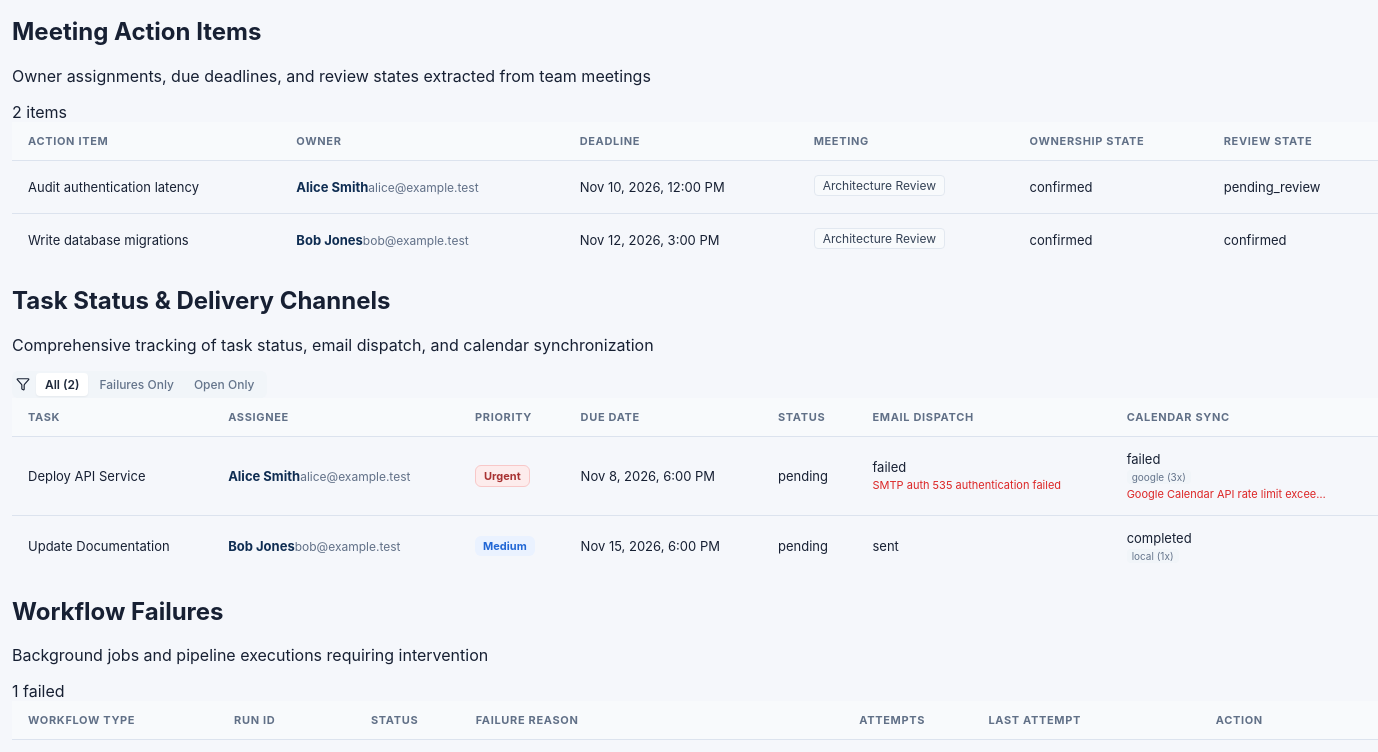
Test case: ManagerMonitoringPage › filters task status table when "Failures Only" filter is clicked
The width and height of the screenshot is (1378, 752).
(page scrolled)
Expected: the text "Deploy API Service" is shown, top-left (12, 436), bottom-right (212, 515)
Expected: the text "Update Documentation" is shown, top-left (12, 515), bottom-right (212, 577)
Click the button with test id "filter-failures-btn": (137, 384) top-left (90, 373), bottom-right (183, 396)
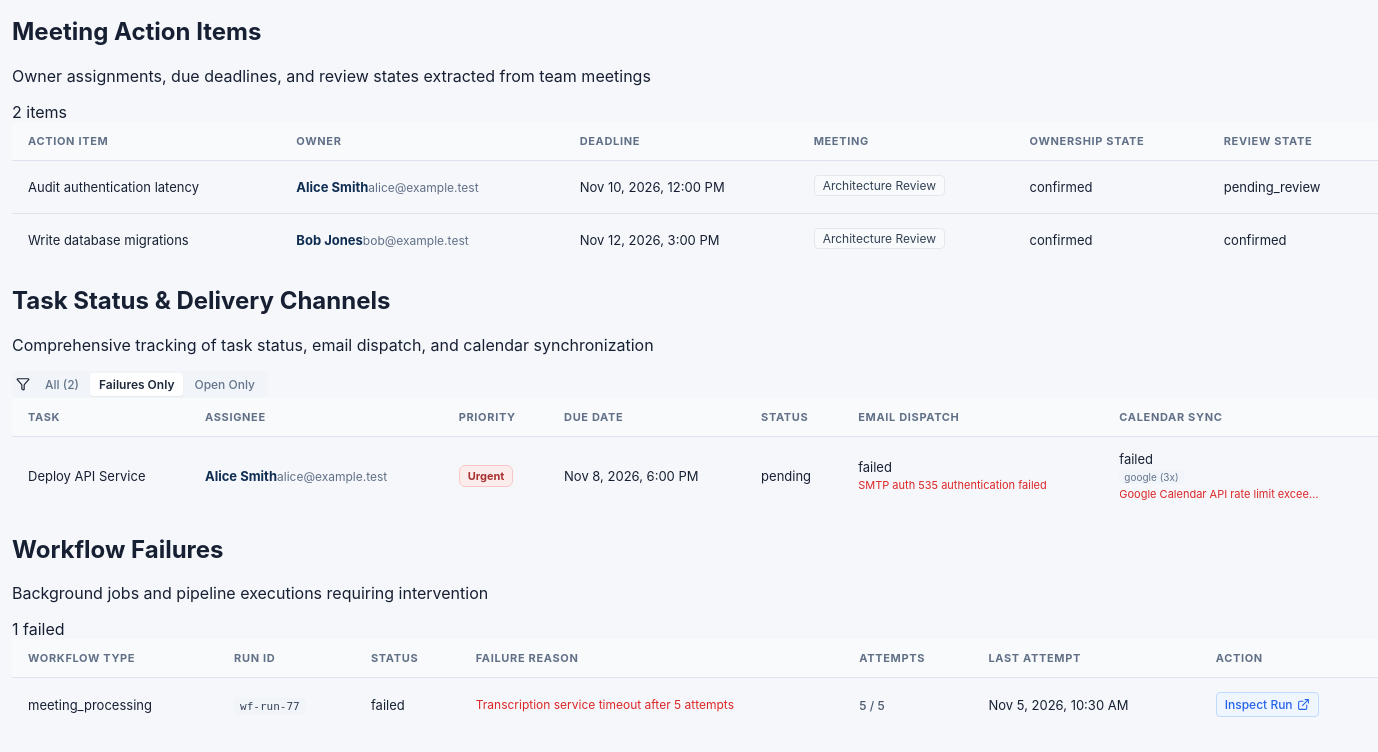
Expected: the text "Deploy API Service" is shown, top-left (12, 436), bottom-right (189, 515)
Expected: the text "Update Documentation" is gone
